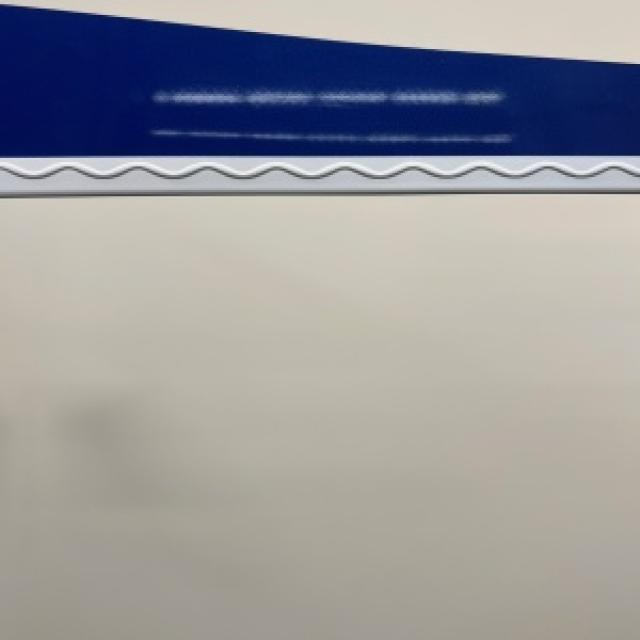healthy: (0, 4, 638, 638), (0, 4, 638, 192)
